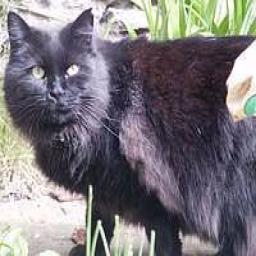catnose: (49, 86, 64, 102)
